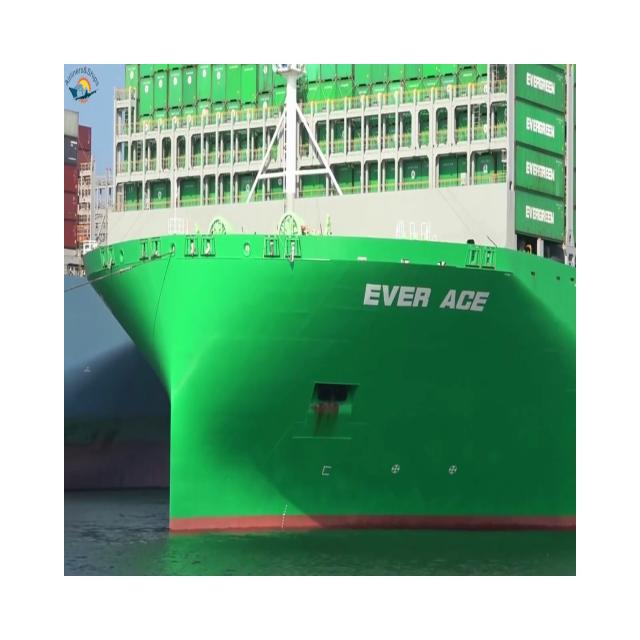OCR: (358, 258, 502, 346)
